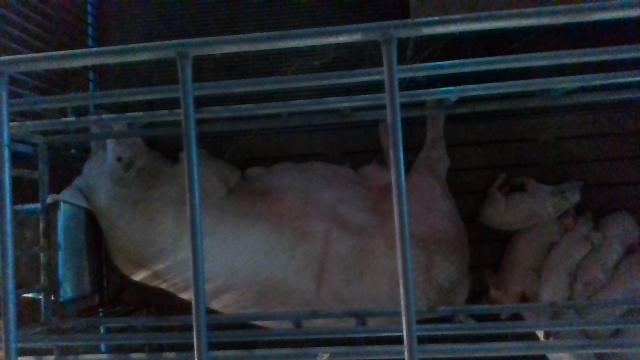piglet: (484, 221, 565, 318), (573, 209, 640, 311), (538, 209, 605, 303), (478, 175, 583, 230), (585, 253, 640, 342), (521, 311, 597, 360)
sow-sleep: (49, 98, 472, 330)
